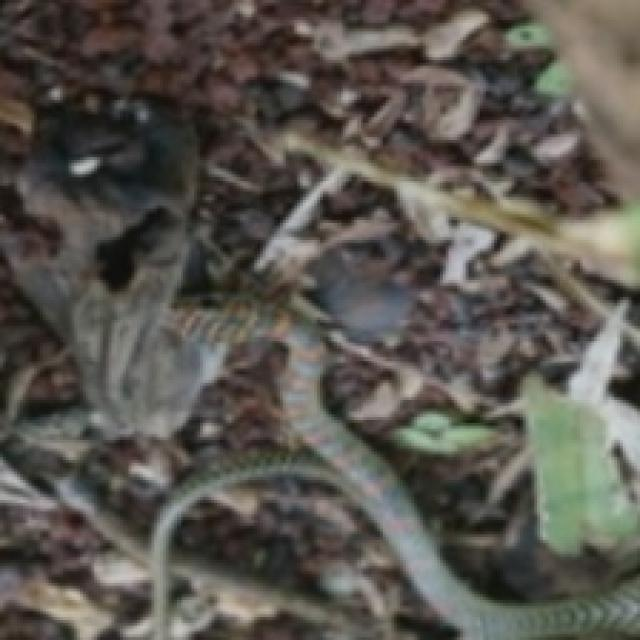paradise tree snake: (0, 89, 637, 637)
